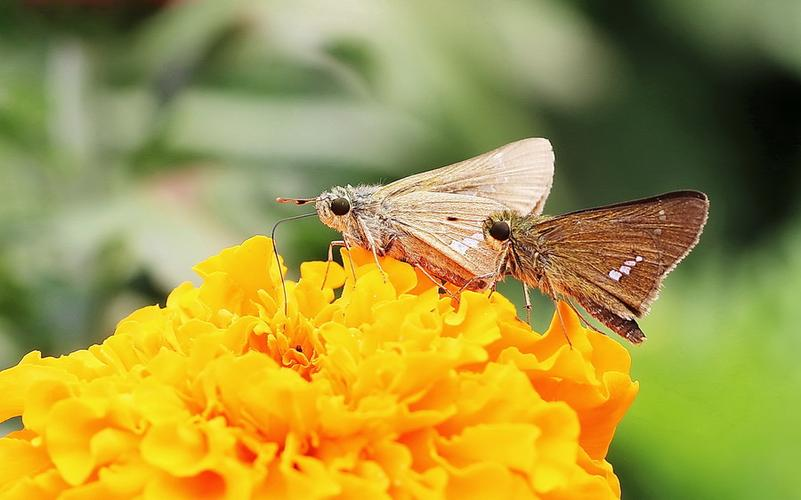Hesperiidae: (271, 135, 555, 338), (477, 188, 711, 346)
